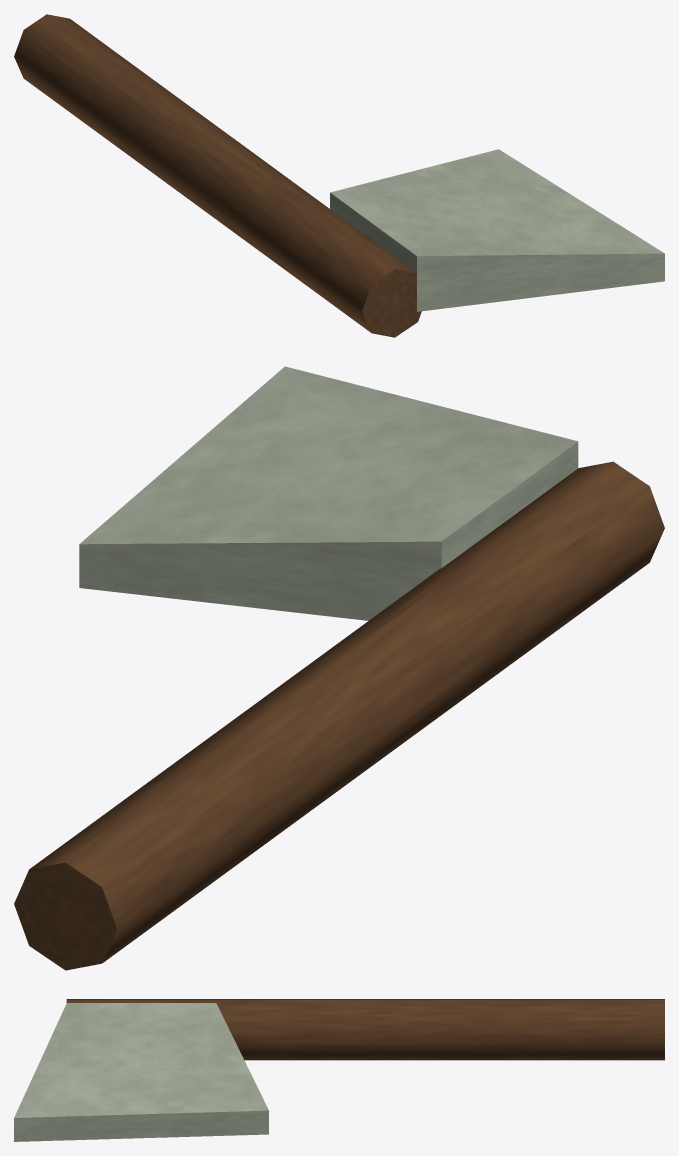
File: item-WarlordCleaver.fbx
The picture shows the model from 3 angles, top to bottom: view 1: azimuth 30°, elevation 25°; view 2: azimuth 150°, elevation 25°; view 3: azimuth 270°, elevation 25°; orthographic projection. The views are drawn at different scales.
Parts seen in each view (by area): view 1: item-WarlordCleaver__Geometry; view 2: item-WarlordCleaver__Geometry; view 3: item-WarlordCleaver__Geometry.
Part boxes in pixels (x1=…): item-WarlordCleaver__Geometry: x1=14, y1=14, x2=664, y2=337; item-WarlordCleaver__Geometry: x1=14, y1=366, x2=664, y2=970; item-WarlordCleaver__Geometry: x1=14, y1=999, x2=664, y2=1141.
Size of the model in its own units: 0.307 by 0.082 by 0.74.
1 material, 1 textured.
